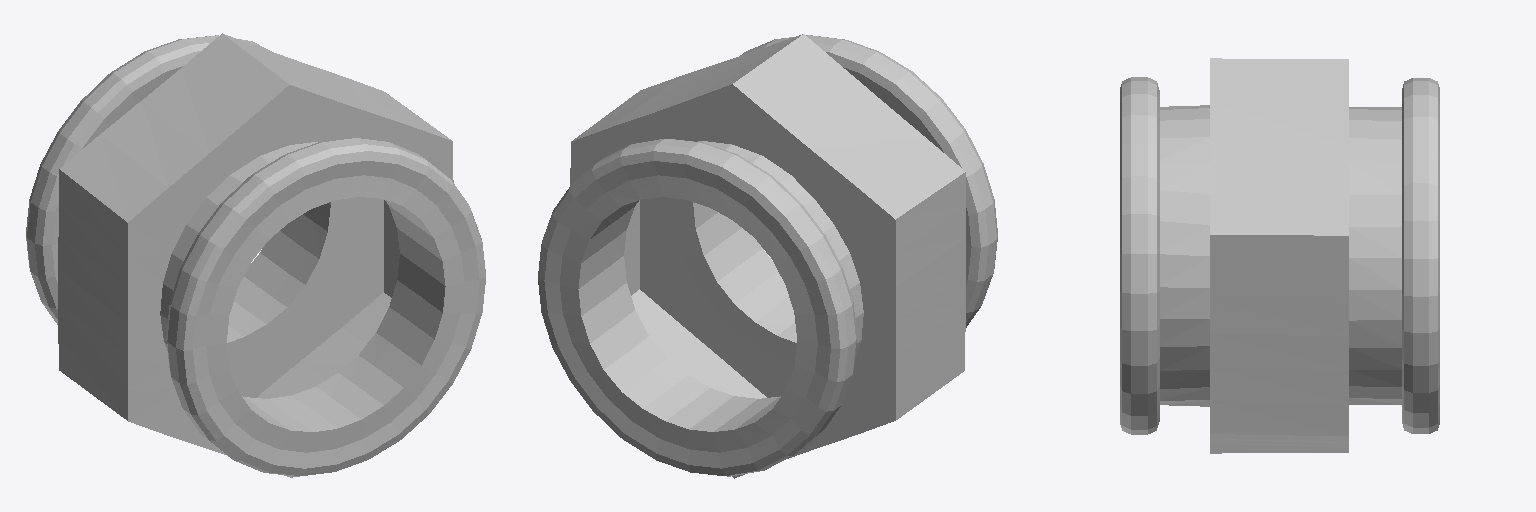
Rendered from TUBEDECOR.obj.
3 views of the same model, side by side, from view 1: azimuth 30°, elevation 25°; view 2: azimuth 150°, elevation 25°; view 3: azimuth 270°, elevation 25° (orthographic).
Parts seen in each view (by area): view 1: TUBEDECOR; view 2: TUBEDECOR; view 3: TUBEDECOR.
Part boxes in pixels (x1,y1,x2,y2): TUBEDECOR: (26,33,485,477); TUBEDECOR: (538,34,997,478); TUBEDECOR: (1120,58,1439,453).
Bounding box in the file's own units: 0.7454 × 0.8604 × 0.6351.